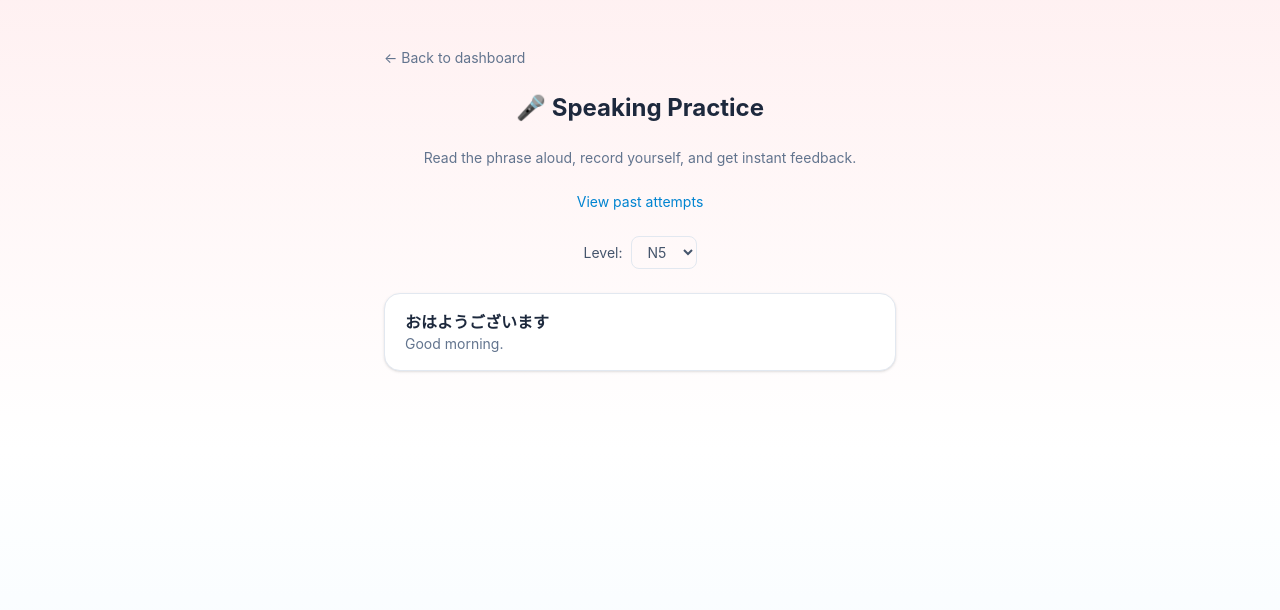
SpeakingPracticePage › lists prompts and shows the target phrase after selecting one
The image size is (1280, 610).
Expected: the text "おはようございます" is shown, 405,312 -> 549,332
Click the text "Good morning." at (454, 344), box 405,335 -> 504,352
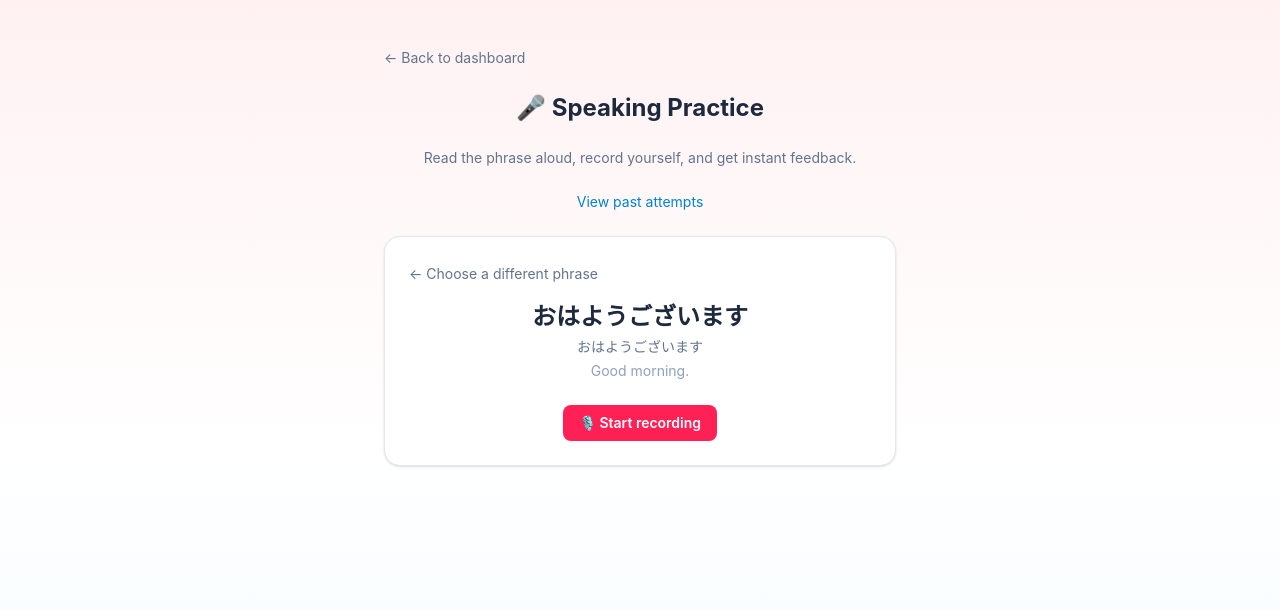
Expected: the text "Good morning." is shown, 591,362 -> 689,379
Expected: the button "🎙️ Start recording" is shown, 563,405 -> 717,441
